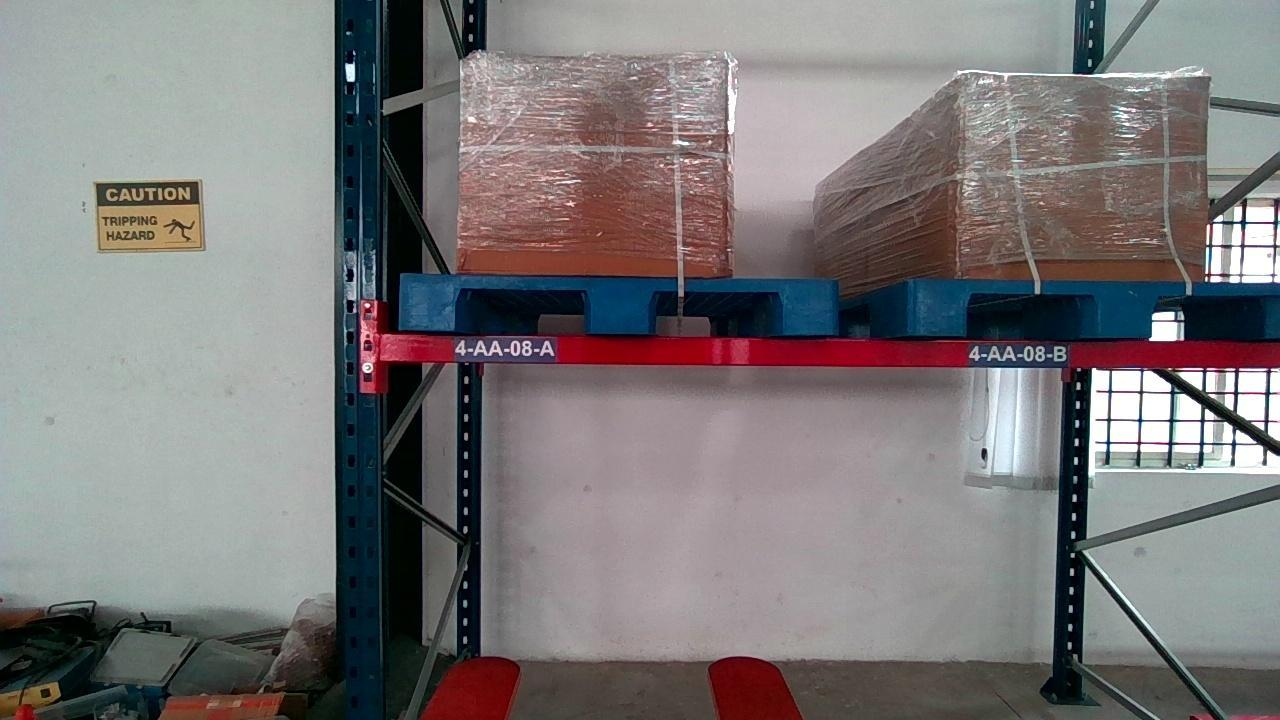h_rack: (377, 333, 1280, 365)
small_pallet: (400, 274, 838, 334), (913, 282, 1280, 338)
